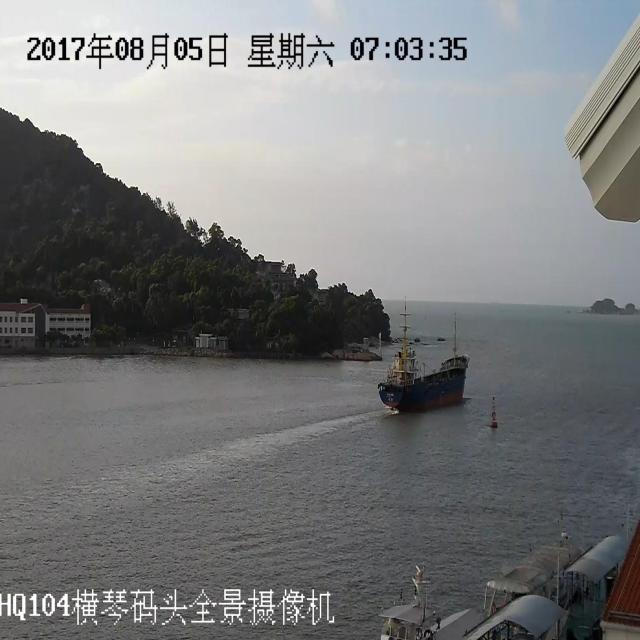buoy: (483, 389, 504, 432)
houseboat: (363, 301, 469, 433)
